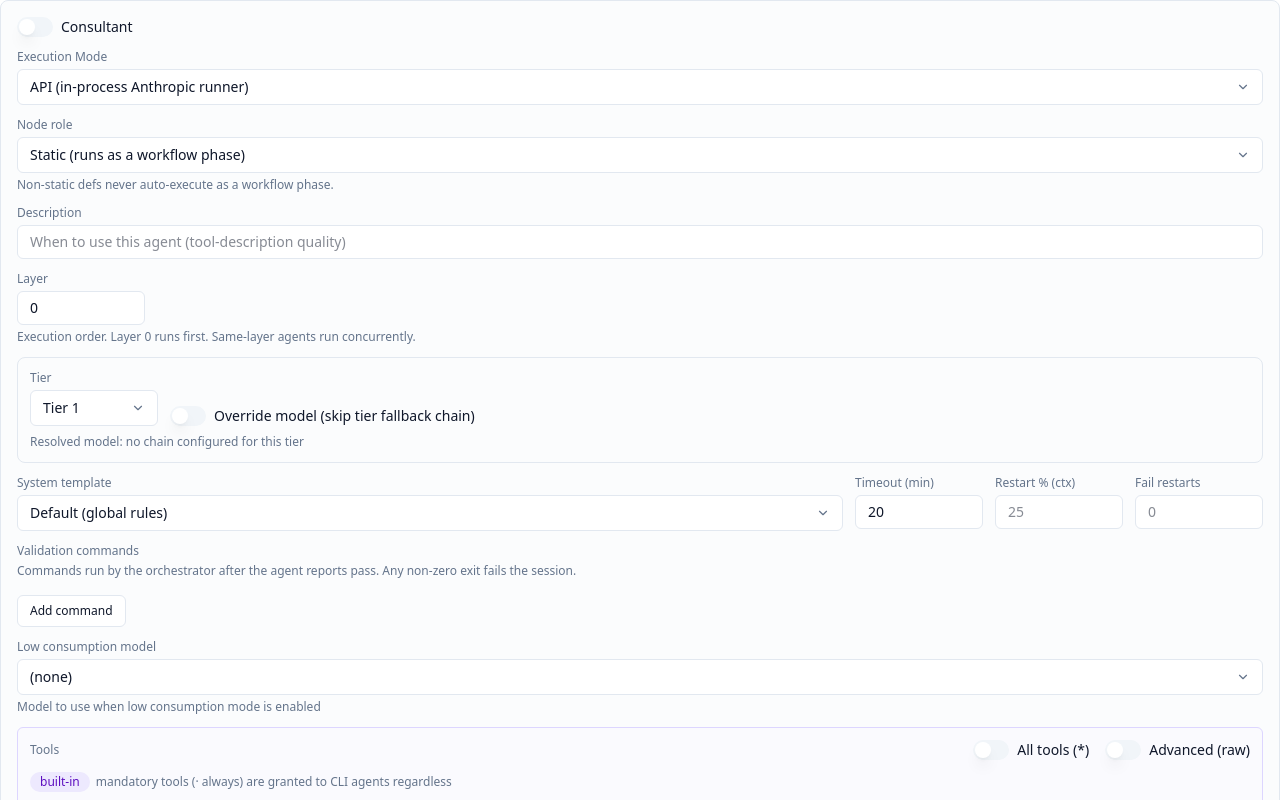
Test: AgentDefForm — model dropdown routing › api mode › initial api mode shows API model options immediately
The width and height of the screenshot is (1280, 800).
Click the 2nd switch named "override model". click: x=188, y=416
box: [170,406,206,426]
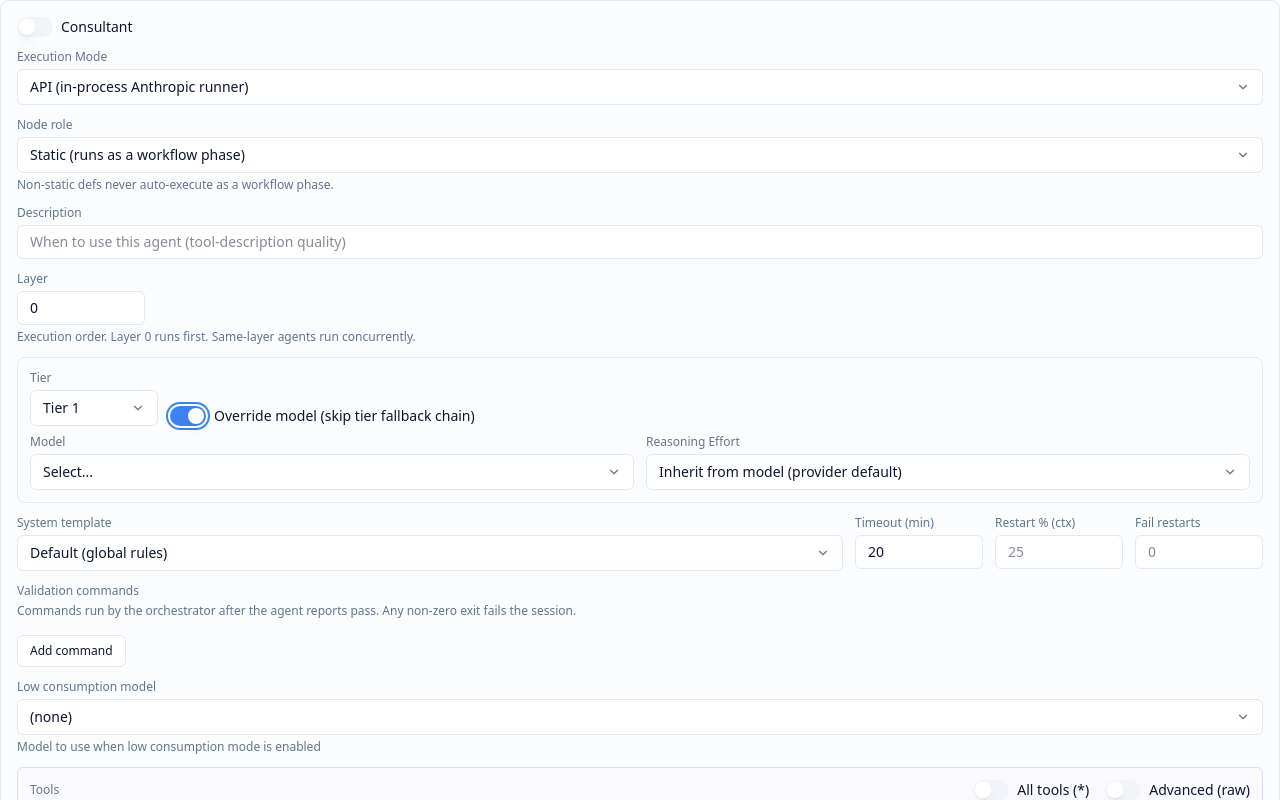
Check: the button "Select..." is shown, box [30,454,634,490]
